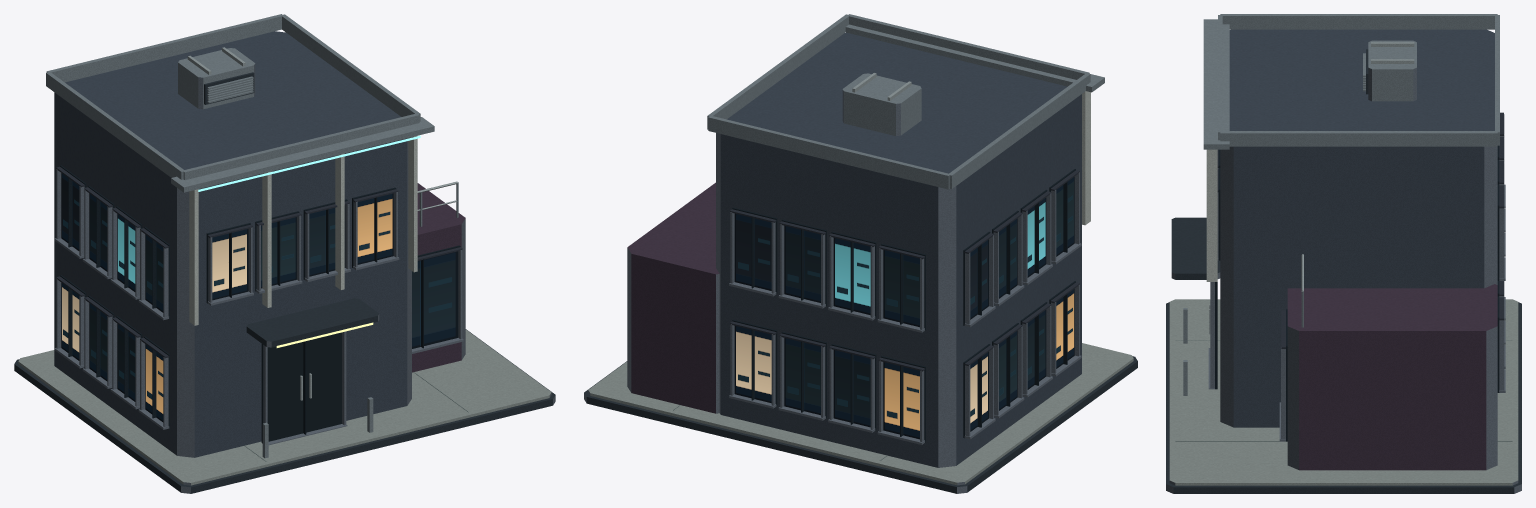
The model's file is 02-work-annex-03.glb.
3 views of the same model, side by side, from view 1: azimuth 30°, elevation 25°; view 2: azimuth 150°, elevation 25°; view 3: azimuth 270°, elevation 25° (orthographic). The views are drawn at different scales.
Parts seen in each view (by area): view 1: work_architecture; view 2: work_architecture; view 3: work_architecture.
Boxes of the visible parts, x1,y1,x2,y2 form: work_architecture: [14, 14, 555, 493]; work_architecture: [584, 14, 1137, 493]; work_architecture: [1166, 14, 1521, 493].
Size of the model in its own units: 11.8 by 9.63 by 9.5.
Materials: 2 (2 with a texture image).
